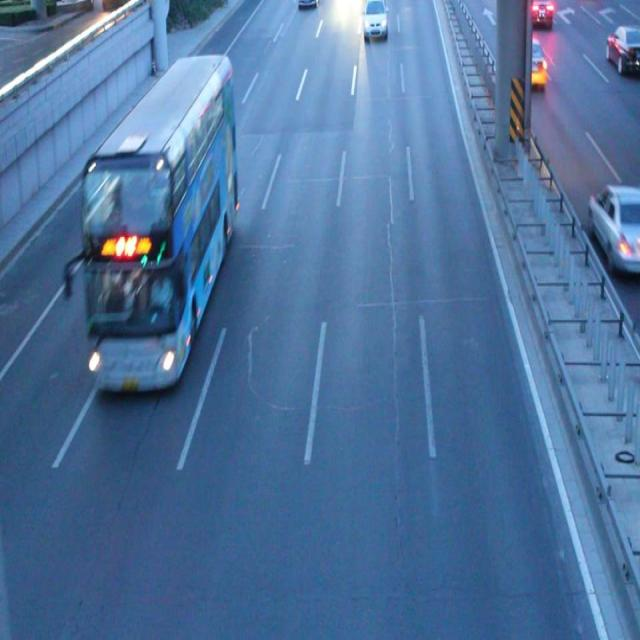car: (586, 180, 640, 279), (603, 23, 640, 75), (512, 39, 546, 94), (363, 1, 386, 37), (523, 1, 551, 29), (297, 1, 316, 10)
van: (79, 54, 238, 395)
